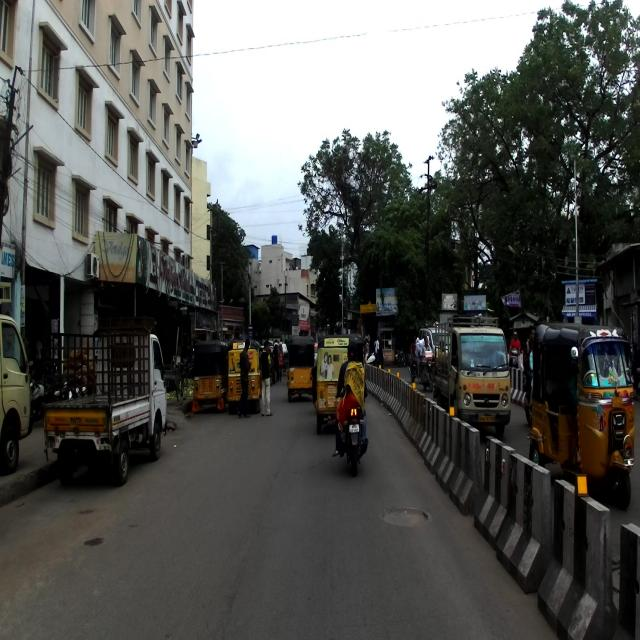autorickshaw: (526, 318, 635, 510), (224, 339, 263, 414), (193, 336, 223, 414), (288, 333, 313, 401)
motorcycle: (334, 381, 369, 474), (418, 356, 433, 390)
truck: (42, 314, 168, 486), (433, 314, 511, 439)
